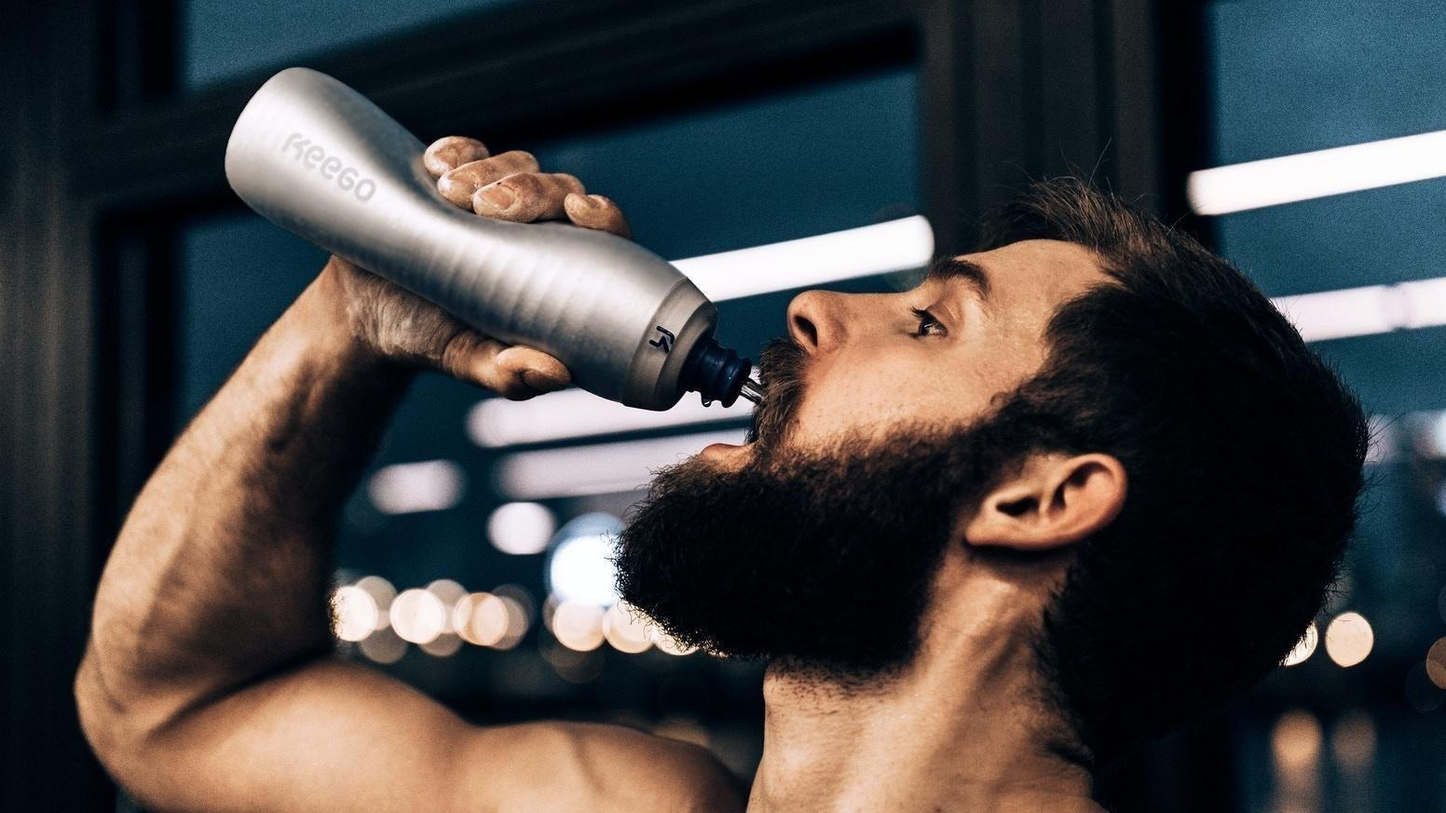gym bottle: (230, 63, 736, 408)
